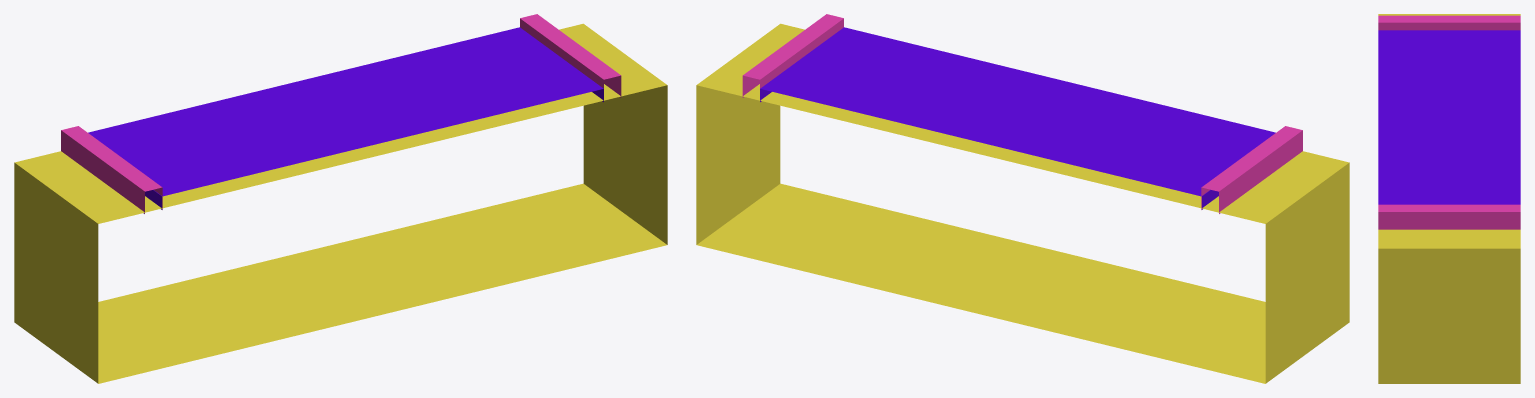
File: zeminV2.fbx
3 renders of one model, left to right at view 1: azimuth 30°, elevation 25°; view 2: azimuth 150°, elevation 25°; view 3: azimuth 270°, elevation 25°, orthographic. The views are drawn at different scales.
Visible parts, largest first — view 1: Cube.003; view 2: Cube.003; view 3: Cube.003.
Boxes of the visible parts, box(x1,y1,x2,y2) form: Cube.003: box(14, 14, 667, 383); Cube.003: box(696, 14, 1349, 383); Cube.003: box(1378, 14, 1520, 383).
Bounding box in the file's own units: 782 × 237 × 200.
